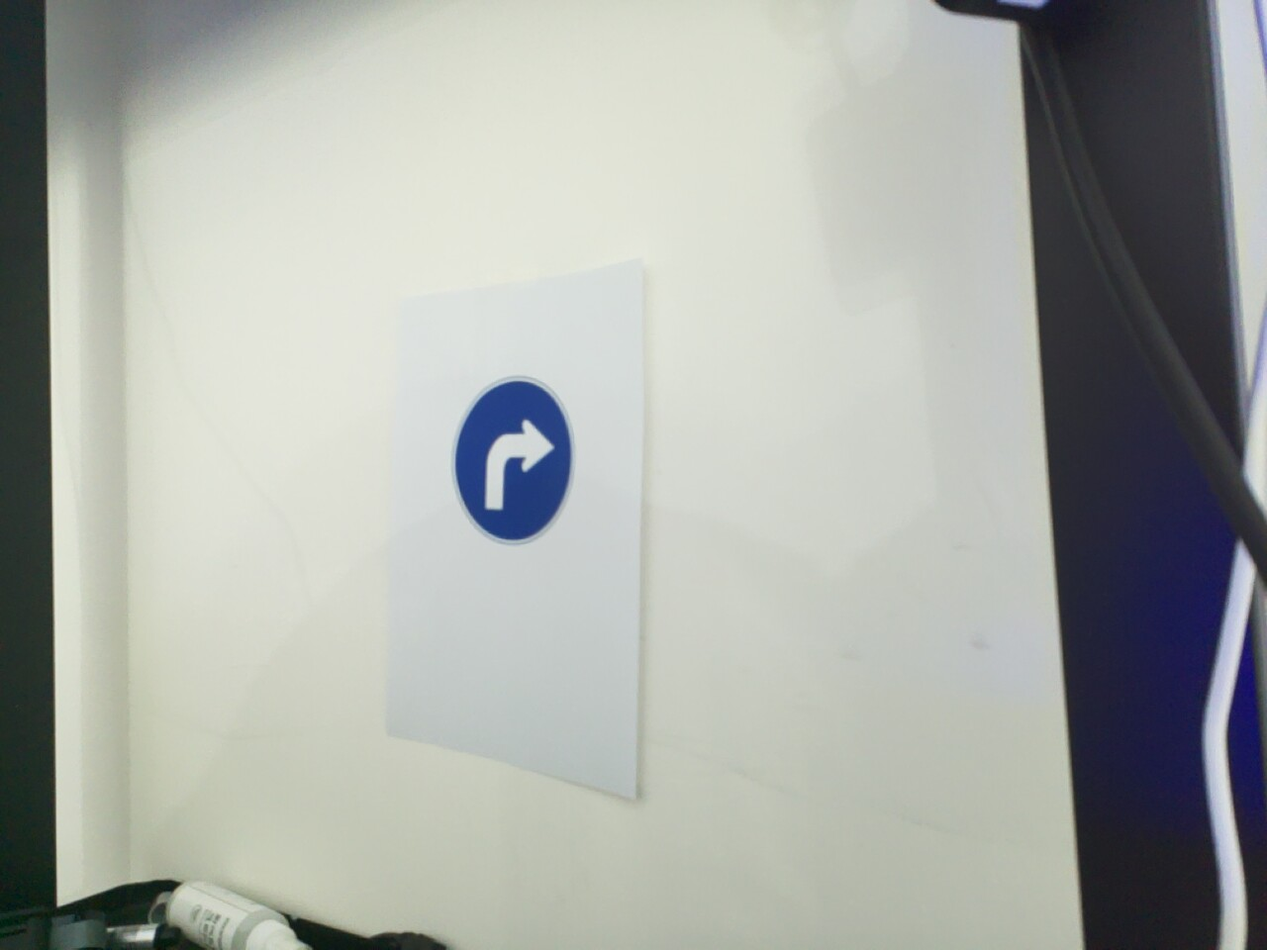right_turn: (449, 374, 577, 547)
